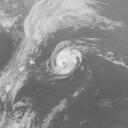cyclone: (47, 39, 84, 79)
